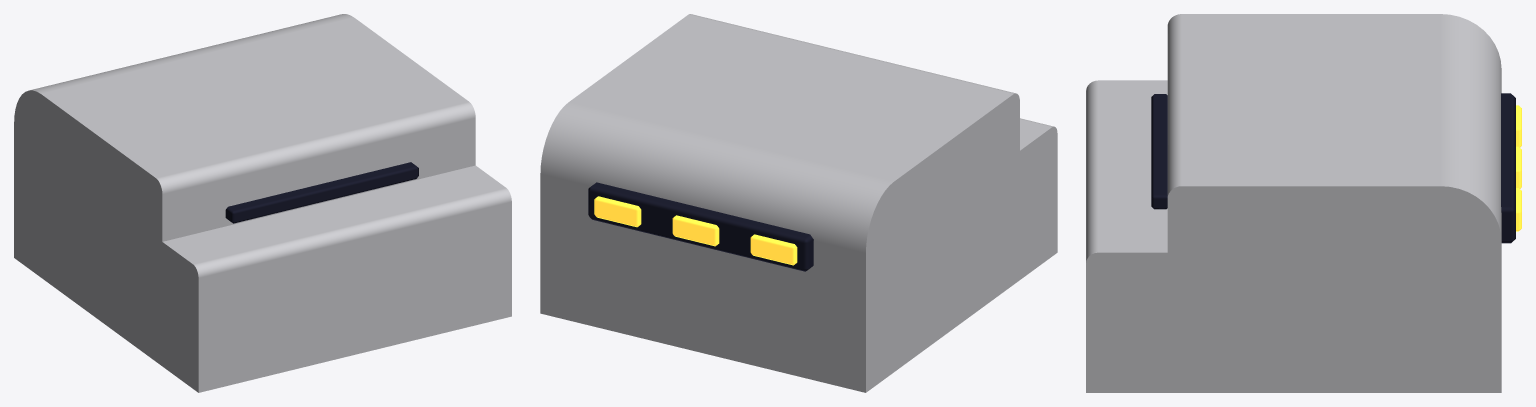
Rendered from roof.shoulder.straight.lit.s0.glb.
The picture shows the model from 3 angles, left to right: view 1: azimuth 30°, elevation 25°; view 2: azimuth 150°, elevation 25°; view 3: azimuth 270°, elevation 25°; orthographic projection. The views are drawn at different scales.
Visible parts, largest first — view 1: roof.shoulder.straight.lit.s0; view 2: roof.shoulder.straight.lit.s0; view 3: roof.shoulder.straight.lit.s0.
Boxes of the visible parts, box(x1,y1,x2,y2) form: roof.shoulder.straight.lit.s0: box(14, 14, 511, 392); roof.shoulder.straight.lit.s0: box(540, 14, 1057, 392); roof.shoulder.straight.lit.s0: box(1086, 14, 1521, 392).
Size of the model in its own units: 1 by 0.56 by 1.07.
